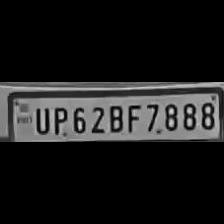2: (86, 102, 104, 134)
6: (68, 104, 86, 134)
7: (142, 100, 160, 132)
8: (160, 100, 178, 132), (179, 99, 197, 131), (197, 98, 214, 130)
B: (104, 101, 124, 133)
F: (125, 102, 141, 132)
P: (50, 104, 68, 134)
U: (31, 104, 50, 134)
